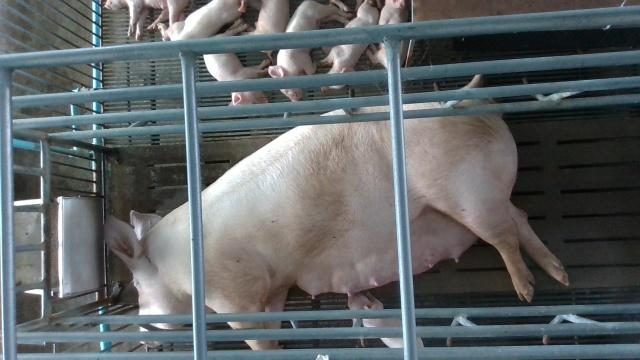piglet: (269, 0, 352, 101), (203, 18, 267, 104), (320, 0, 380, 90), (347, 291, 424, 348), (157, 0, 246, 42), (104, 0, 193, 41), (239, 1, 289, 65), (366, 0, 412, 69)
sow-sleep-lactate: (104, 76, 571, 348)
